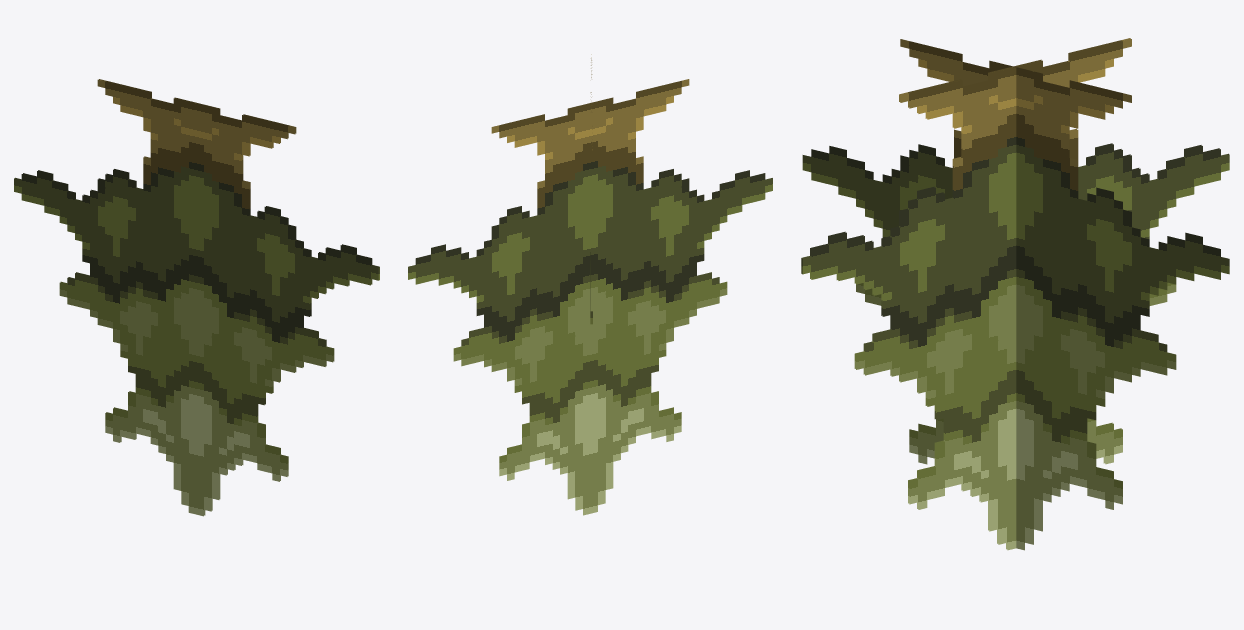
File: Tanne01.fbx
3 views of the same model, side by side, from view 1: azimuth 30°, elevation 25°; view 2: azimuth 150°, elevation 25°; view 3: azimuth 270°, elevation 25° (orthographic). The views are drawn at different scales.
Parts seen in each view (by area): view 1: Plane.001; view 2: Plane; view 3: Plane.001, Plane.
Part boxes in pixels (left/top/right/bottom): Plane.001: left=14, top=79, right=379, bottom=516; Plane: left=408, top=79, right=772, bottom=515; Plane.001: left=801, top=38, right=1229, bottom=550; Plane: left=802, top=39, right=1229, bottom=550.
Bounding box in the file's own units: 90.87 × 200 × 156.
